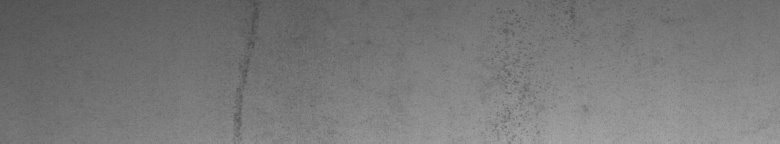ib: (486, 7, 588, 131)
